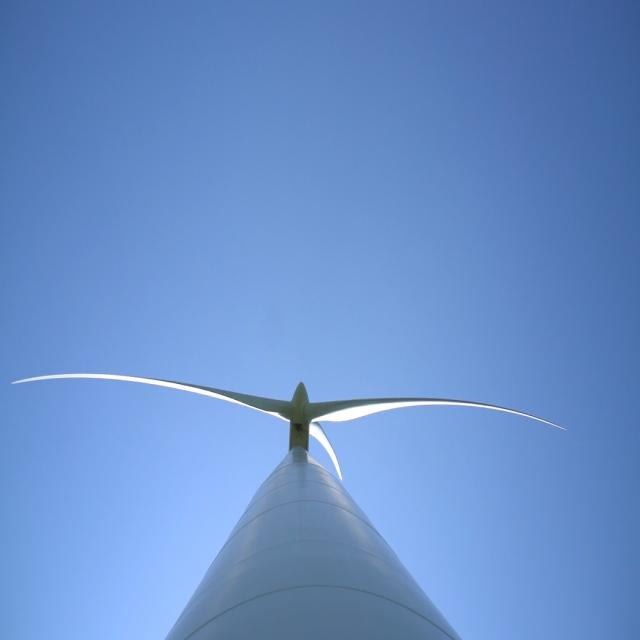blade 1: (316, 427, 330, 455)
blade 2: (32, 354, 280, 416)
blade 3: (332, 368, 582, 431)
